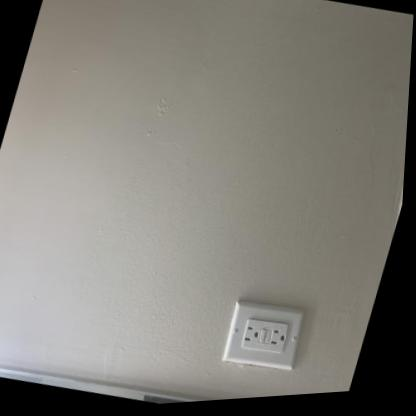OUTLET: (219, 294, 307, 376)
